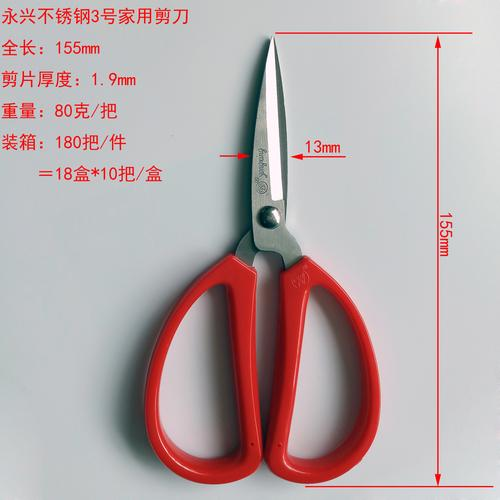scissor: (143, 36, 379, 484)
